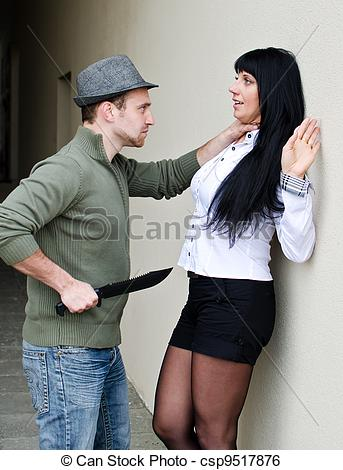knife: (54, 268, 174, 317)
